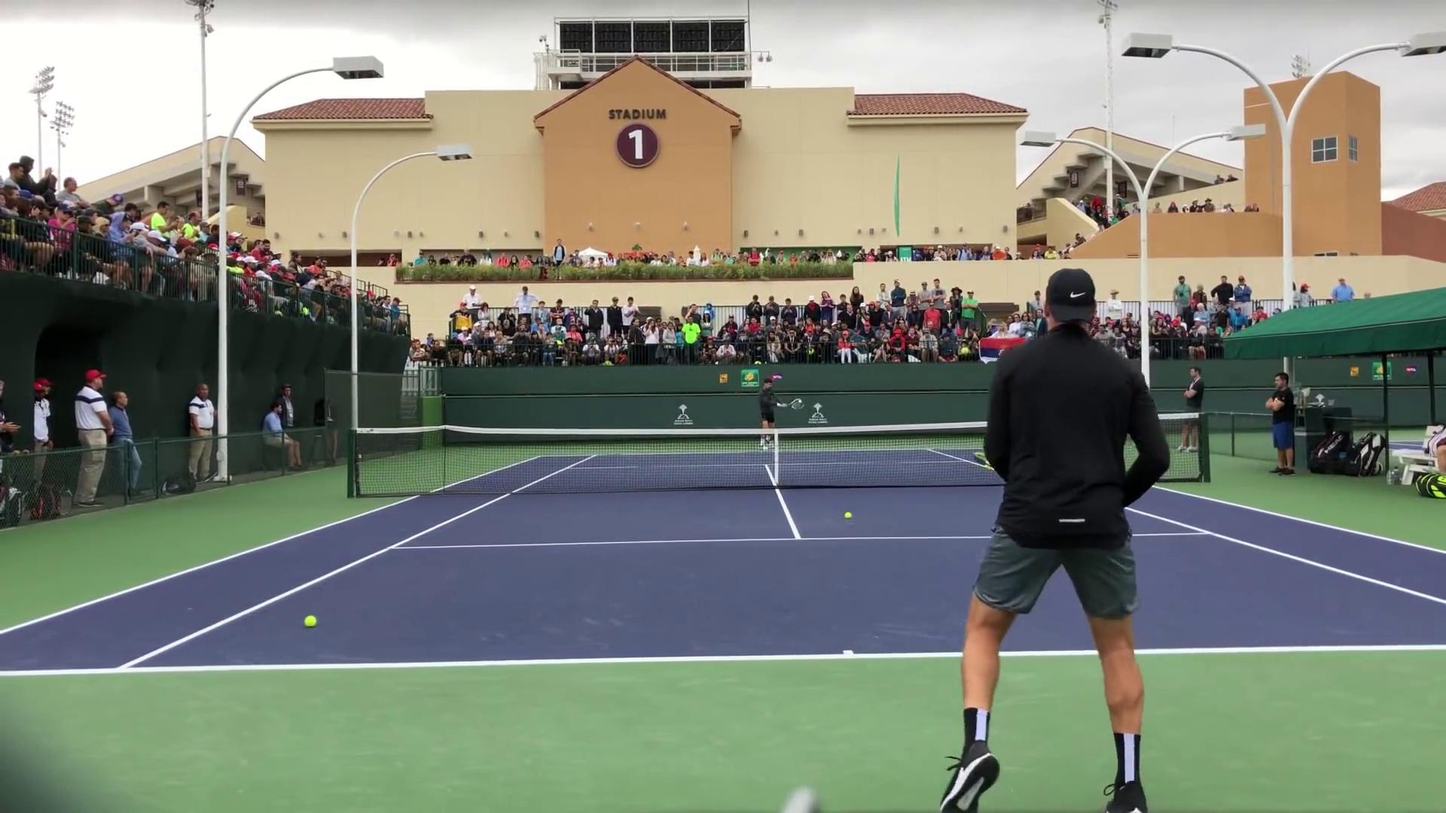ball: (304, 615, 318, 627), (842, 512, 853, 520), (798, 397, 802, 404)
